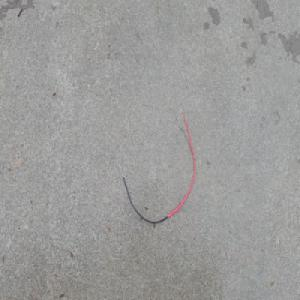Wire: (117, 103, 196, 223)
